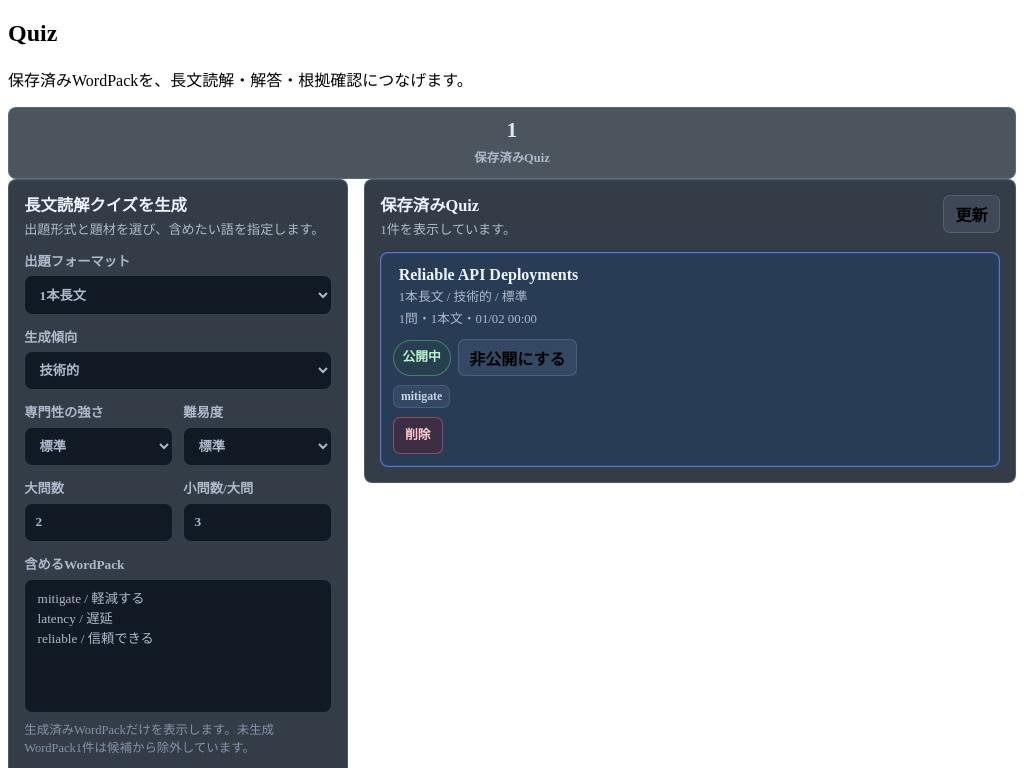
Scenario: QuizPage › lets authenticated users toggle guest public visibility from the quiz list
Click the button "非公開にする".
click(517, 358)  # box [458,339,577,376]
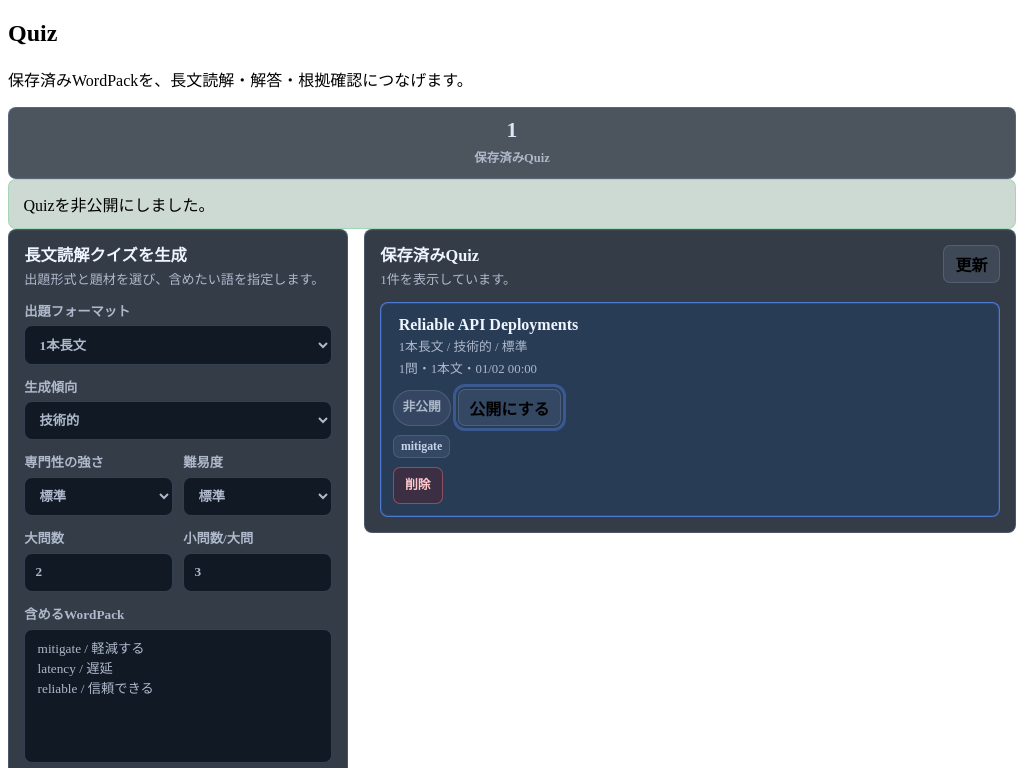
Expected: the text "Quizを非公開にしました。" is shown, [8,179,1016,229]
